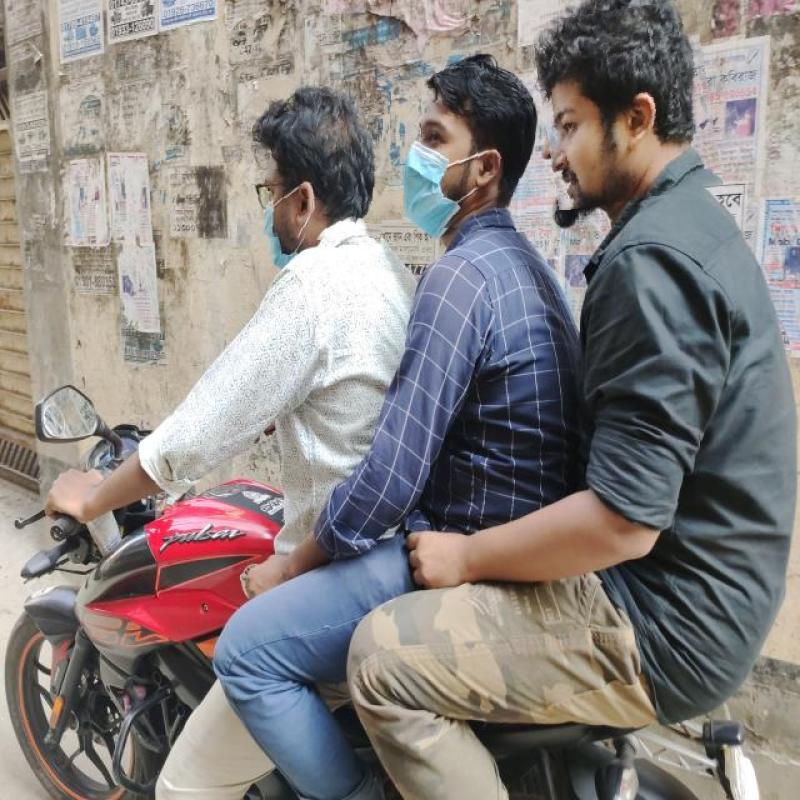nohelmet: (537, 3, 717, 205), (240, 83, 388, 242), (404, 66, 532, 230)
